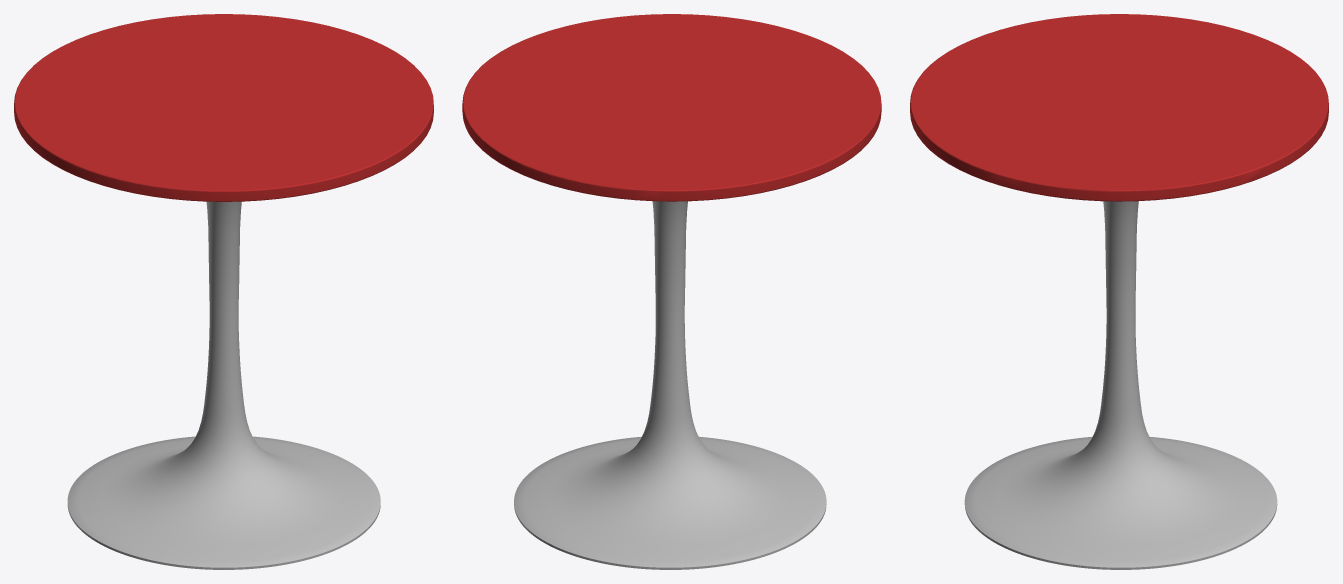
File: dinning-table-01.glb
3 views of the same model, side by side, from view 1: azimuth 30°, elevation 25°; view 2: azimuth 150°, elevation 25°; view 3: azimuth 270°, elevation 25° (orthographic).
Visible parts, largest first — view 1: top1__wire_134006007_0, bottom_lambert2_0; view 2: top1__wire_134006007_0, bottom_lambert2_0; view 3: top1__wire_134006007_0, bottom_lambert2_0.
Boxes of the visible parts, <box> form: top1__wire_134006007_0: <box>14,14,433,201</box>; bottom_lambert2_0: <box>67,201,380,569</box>; top1__wire_134006007_0: <box>462,14,881,201</box>; bottom_lambert2_0: <box>514,201,826,569</box>; top1__wire_134006007_0: <box>910,14,1328,201</box>; bottom_lambert2_0: <box>964,201,1277,569</box>.
Size of the model in its own units: 1.16 by 1.23 by 1.16.
